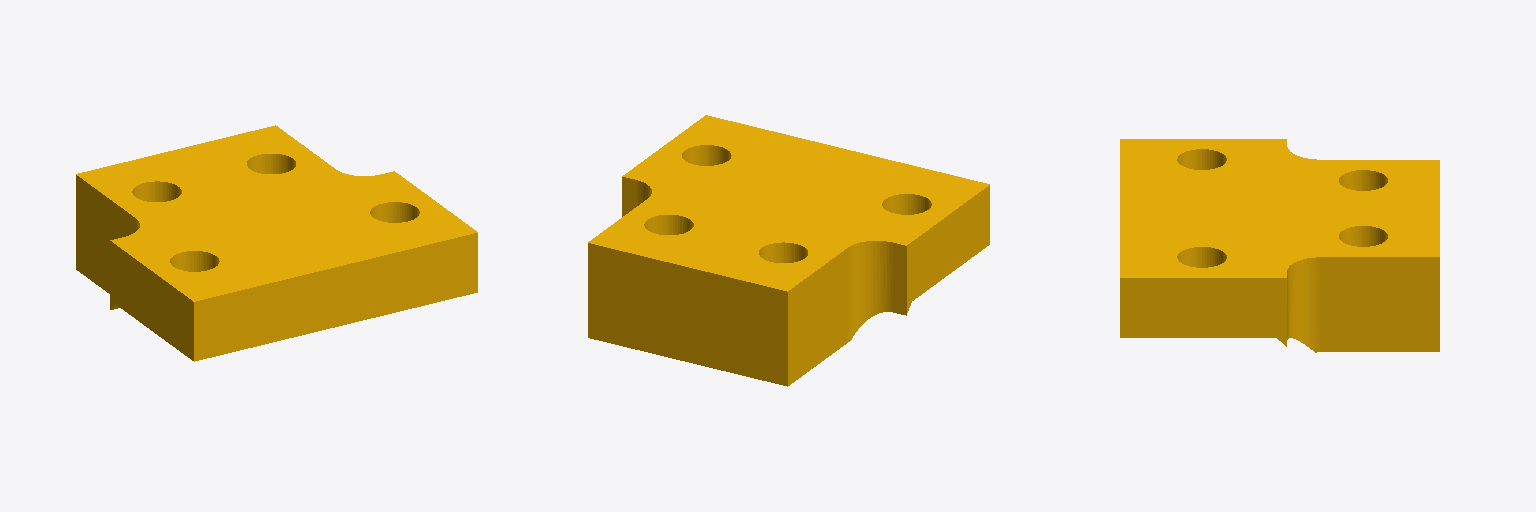
File: Gelsight_Mount.obj
3 renders of one model, left to right at view 1: azimuth 30°, elevation 25°; view 2: azimuth 150°, elevation 25°; view 3: azimuth 270°, elevation 25°, orthographic.
Bounding box in the file's own units: 0.0298 × 0.0095 × 0.0291.